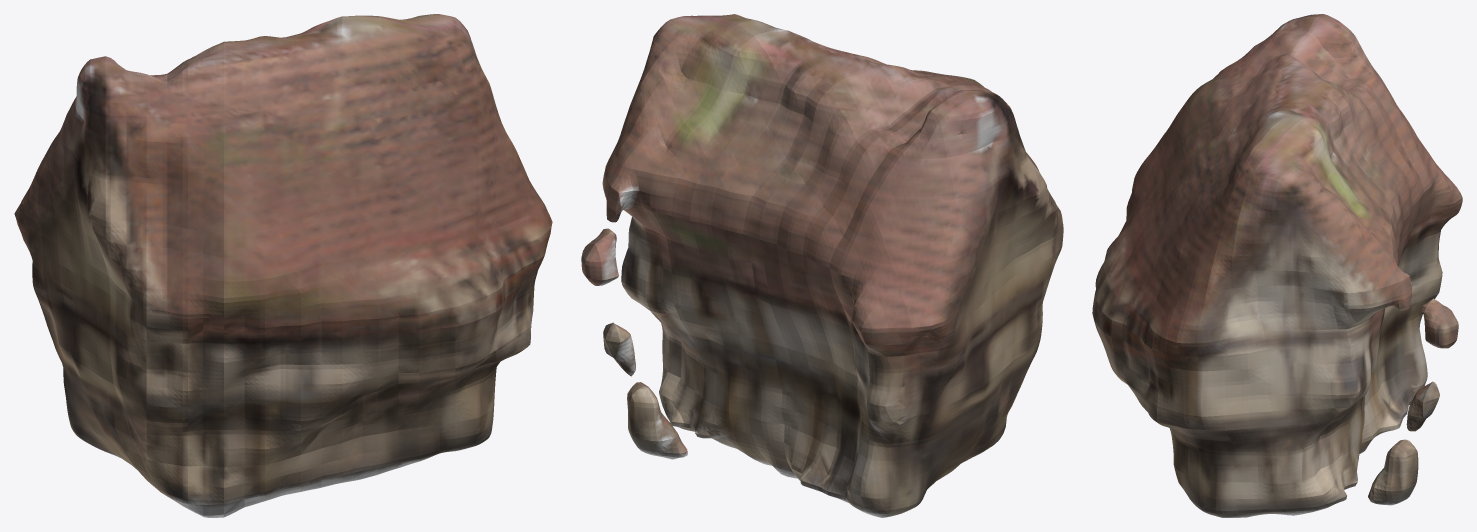
3 renders of one model, left to right at view 1: azimuth 30°, elevation 25°; view 2: azimuth 150°, elevation 25°; view 3: azimuth 270°, elevation 25°, orthographic. The views are drawn at different scales.
Visible parts, largest first — view 1: mesh_00215000_gradio_lod0.ply; view 2: mesh_00215000_gradio_lod0.ply; view 3: mesh_00215000_gradio_lod0.ply.
Boxes of the visible parts, box(x1,y1,x2,y2) form: mesh_00215000_gradio_lod0.ply: box(14, 14, 552, 517); mesh_00215000_gradio_lod0.ply: box(581, 14, 1063, 517); mesh_00215000_gradio_lod0.ply: box(1092, 14, 1462, 517).
Bounding box in the file's own units: 0.7199 × 0.7359 × 0.6338.
